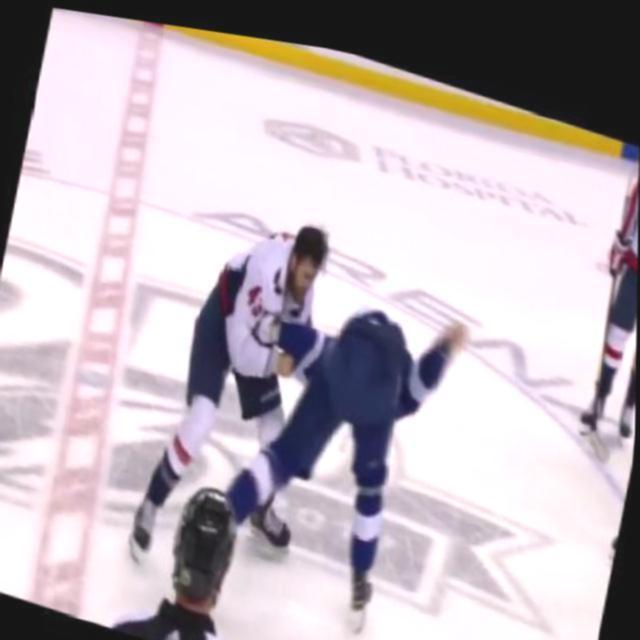fight: (148, 174, 480, 592)
